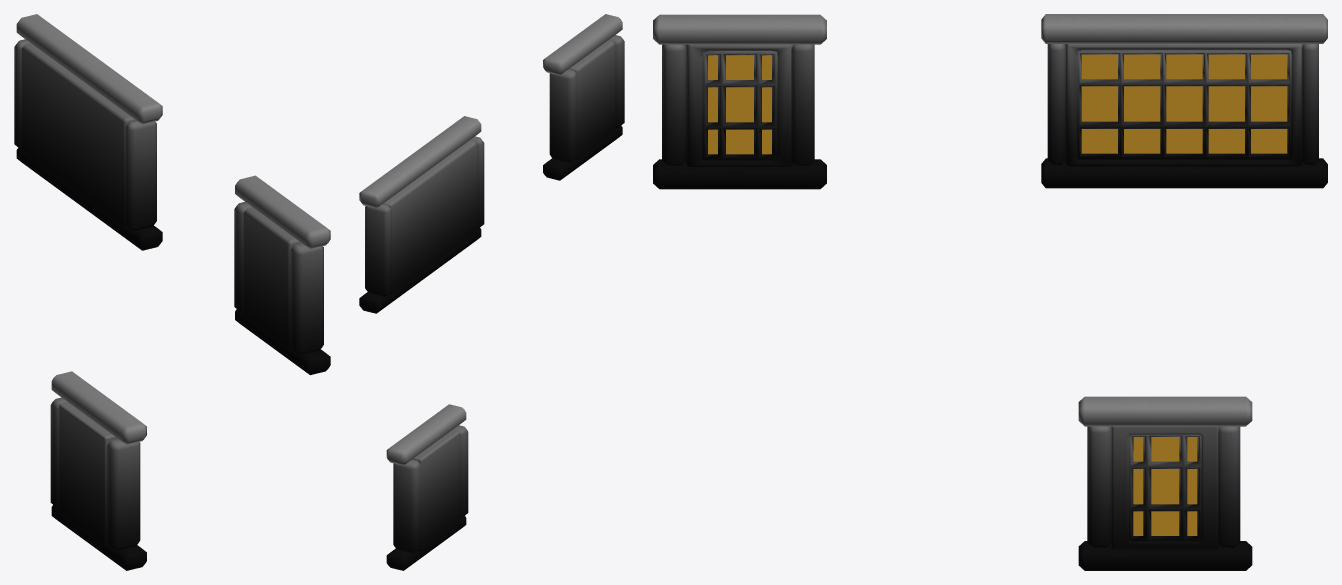
File: SM_Brick_Window_03.fbx
3 renders of one model, left to right at view 1: azimuth 30°, elevation 25°; view 2: azimuth 150°, elevation 25°; view 3: azimuth 270°, elevation 25°, orthographic. The views are drawn at different scales.
Visible parts, largest first — view 1: SM_Brick_Window_03; view 2: SM_Brick_Window_03; view 3: SM_Brick_Window_03.
Part boxes in pixels (x1=…): SM_Brick_Window_03: x1=14, y1=14, x2=330, y2=570; SM_Brick_Window_03: x1=359, y1=14, x2=624, y2=570; SM_Brick_Window_03: x1=653, y1=14, x2=1327, y2=570.
Bounding box in the file's own units: 0.1015 × 1.39 × 1.56.
